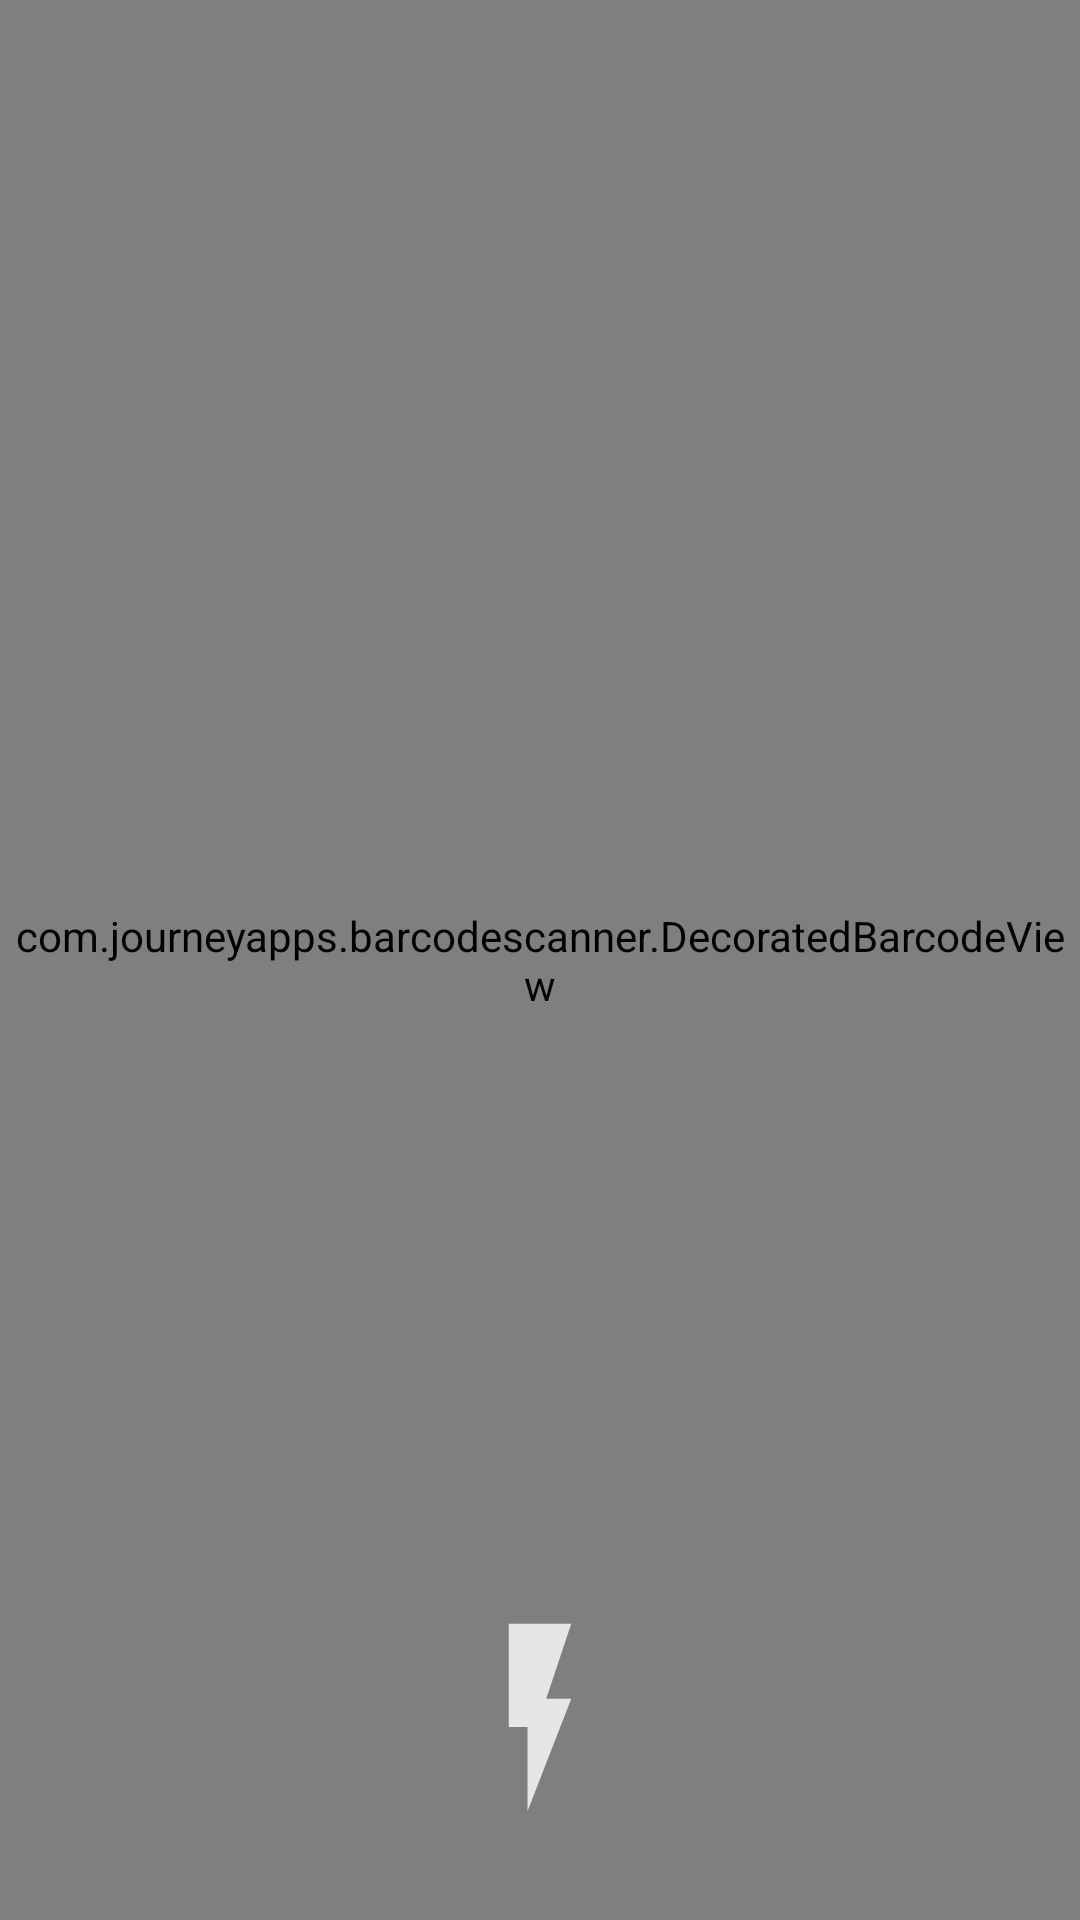

Icons on this 1080×1920 Android screen, each with the point to tap as [x,y]:
on flash: [539,1717]
